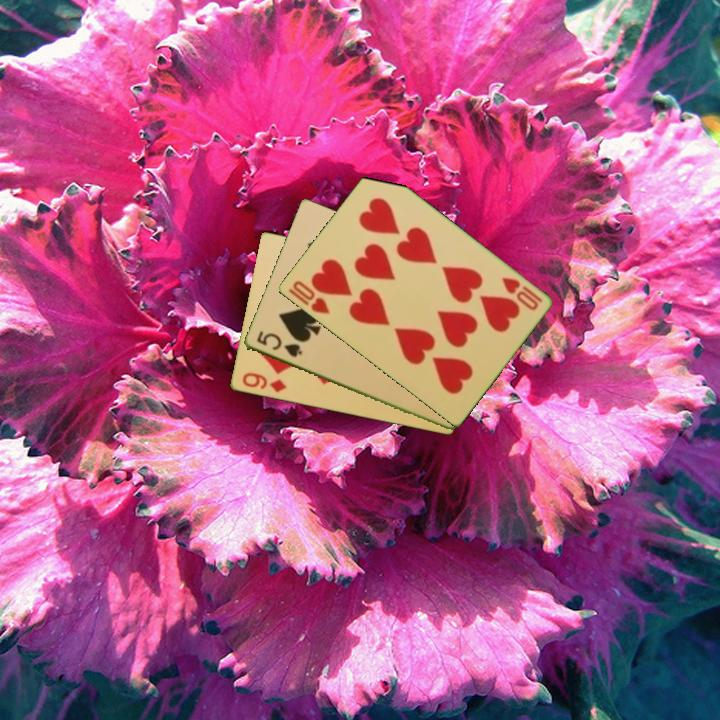10h: (284, 277, 332, 317), (498, 274, 545, 314)
5s: (253, 328, 305, 360)
9d: (238, 369, 289, 395)
